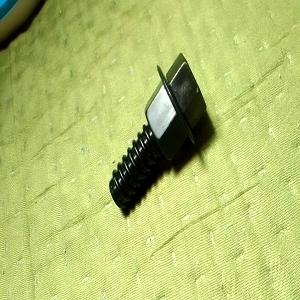parafuso: (108, 52, 208, 210)
